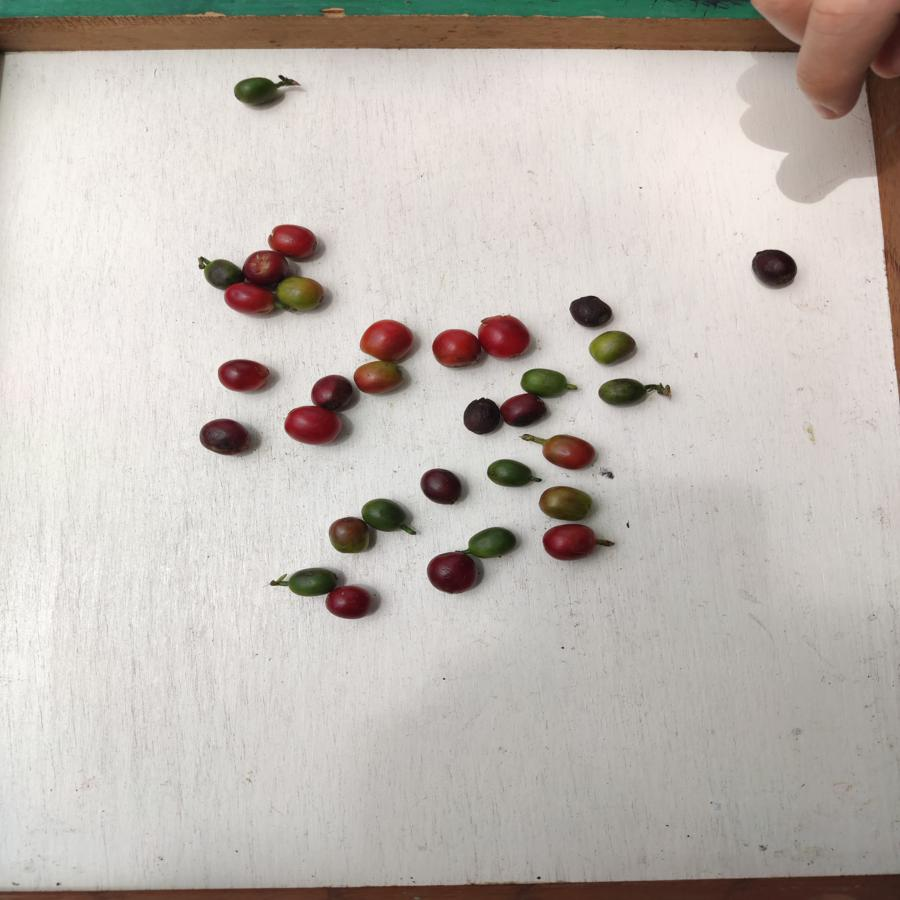Inmaduro: (600, 373, 649, 413), (483, 454, 534, 490), (359, 497, 411, 532), (232, 73, 281, 108), (469, 526, 515, 558), (288, 565, 334, 596), (521, 368, 569, 395), (197, 259, 243, 287)
Maduro: (479, 312, 533, 360), (281, 409, 347, 448), (360, 319, 413, 362), (431, 327, 481, 372), (269, 224, 323, 259), (543, 525, 598, 559), (224, 286, 274, 322), (248, 248, 285, 277)
Pinton: (538, 485, 597, 520), (277, 277, 327, 317), (537, 435, 598, 467), (587, 329, 638, 367), (351, 363, 408, 395), (326, 519, 368, 559)
Sobremaduro: (214, 358, 275, 395), (749, 248, 799, 293), (428, 552, 478, 593), (200, 418, 248, 458), (328, 583, 373, 623), (500, 393, 548, 428), (422, 468, 463, 507), (460, 398, 502, 436), (309, 376, 353, 409), (571, 296, 613, 327)
